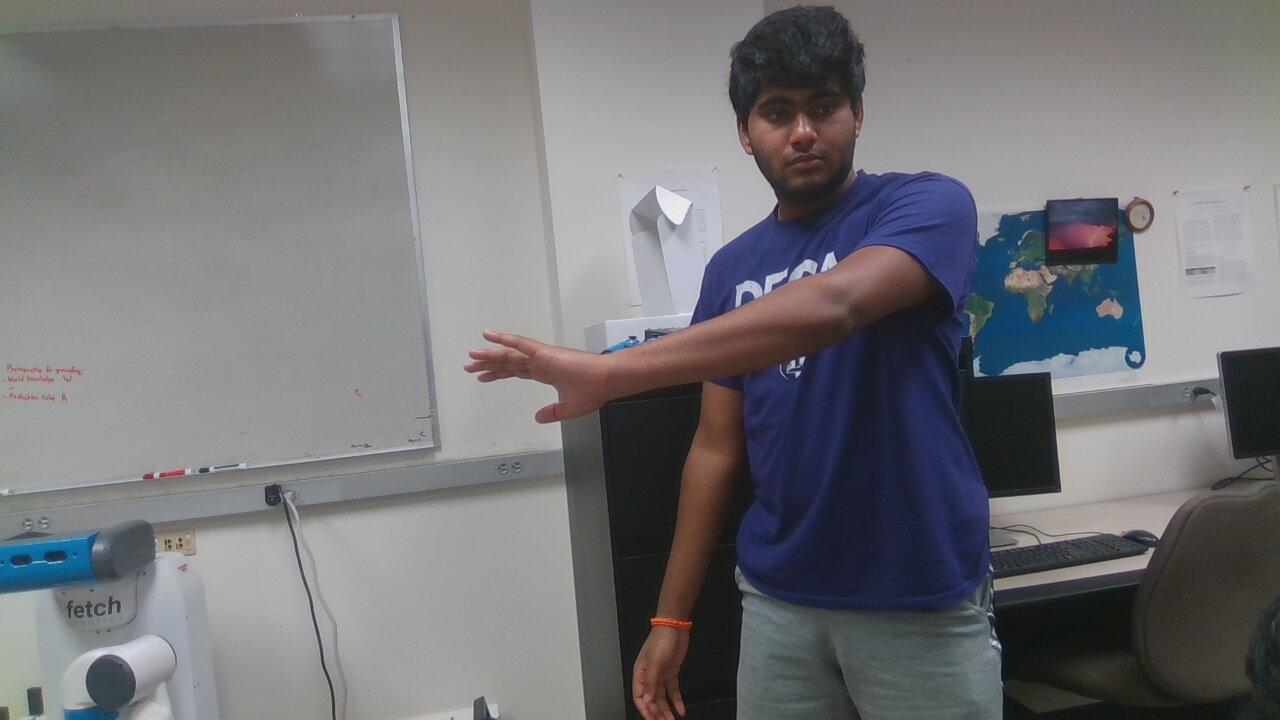hands: (446, 329, 604, 438), (623, 617, 710, 720)
